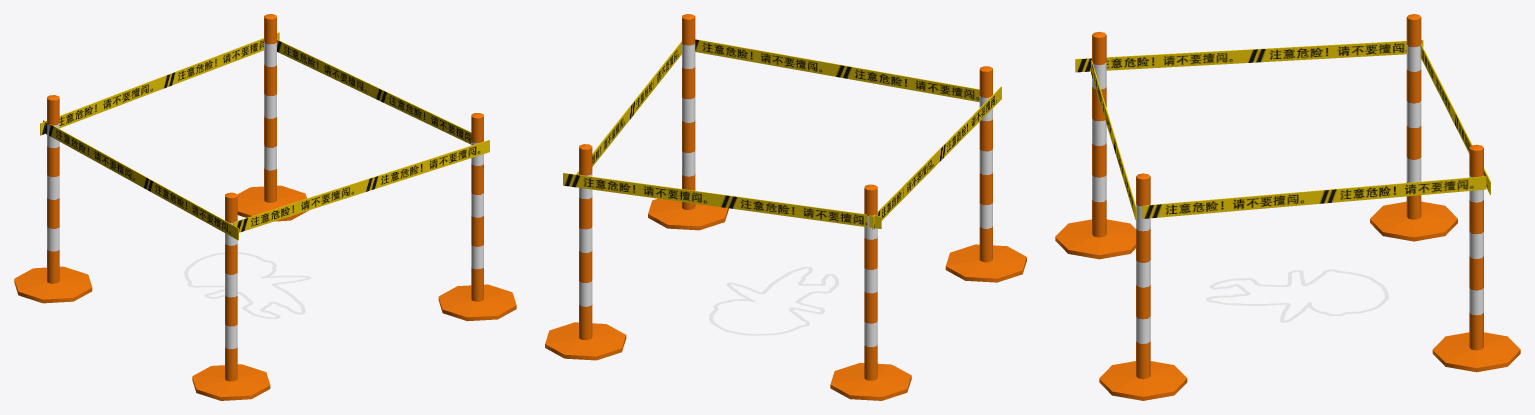
File: obj_deathscene.fbx
The picture shows the model from 3 angles, left to right: view 1: azimuth 30°, elevation 25°; view 2: azimuth 150°, elevation 25°; view 3: azimuth 270°, elevation 25°; orthographic projection. The views are drawn at different scales.
Parts seen in each view (by area): view 1: pPlane2; view 2: pPlane2; view 3: pPlane2.
Part boxes in pixels (x1,y1,x2,y2): pPlane2: (14, 14, 516, 400); pPlane2: (545, 14, 1026, 400); pPlane2: (1055, 14, 1520, 400).
Size of the model in its own units: 13.78 by 6.79 by 13.78.
1 material, 1 textured.
